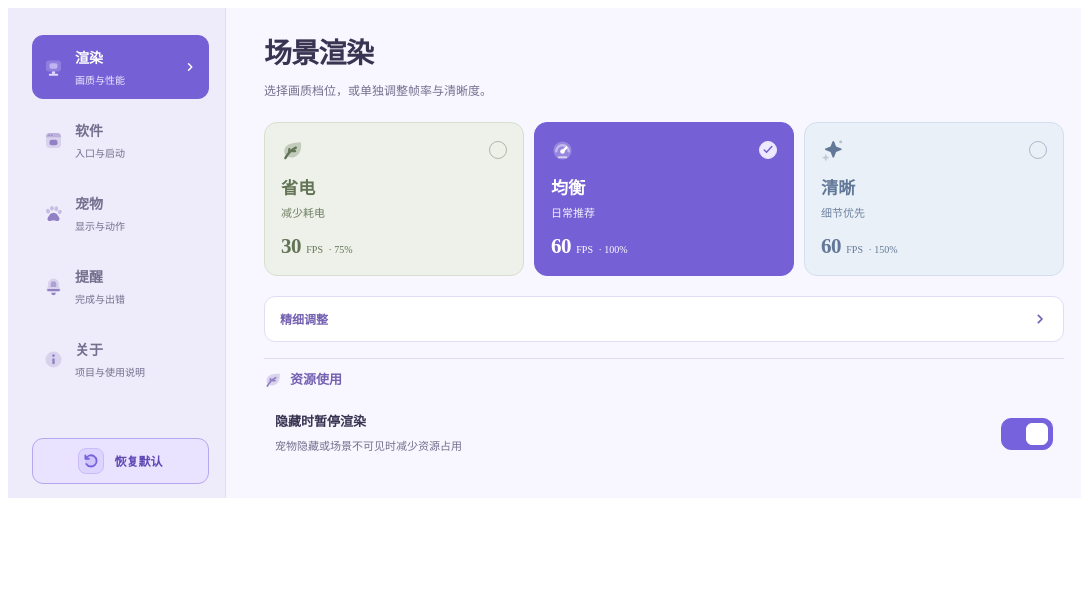
Test: formal preference controls › keeps at least one entry and reports unsupported login without invoking OS changes
Click the button "软件 入口与启动" at (120,140), box [32, 108, 209, 172]
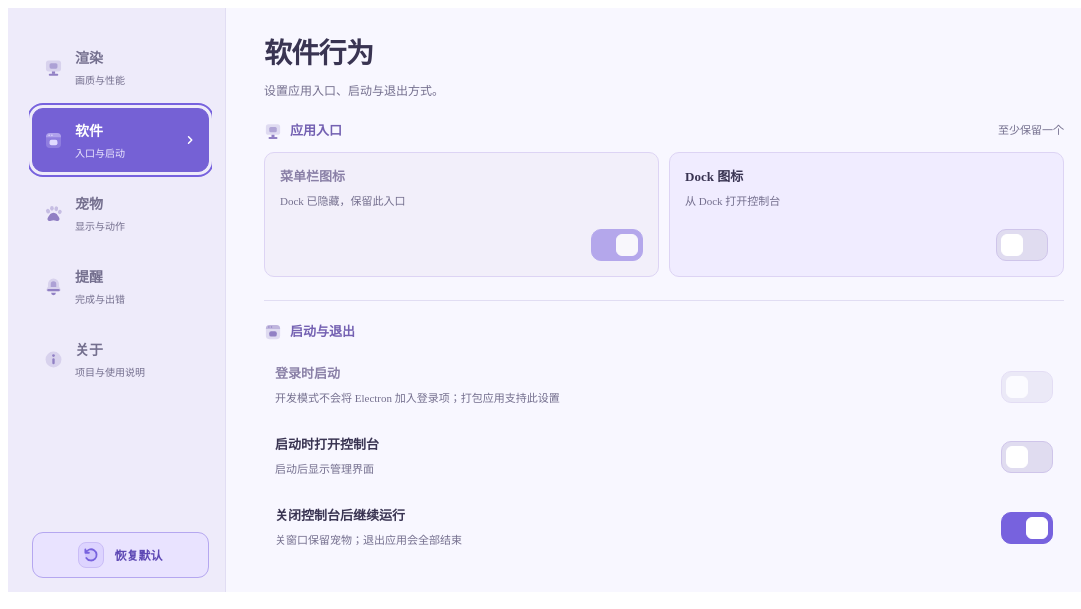
Check: the switch named "Dock 图标" is enabled, box [996, 229, 1048, 261]
Check: the switch named "菜单栏图标" is disabled, box [591, 229, 643, 261]
Check: the text "开发模式不会将 Electron 加入登录项；打包应用支持此设置" is shown, box [275, 389, 560, 408]
